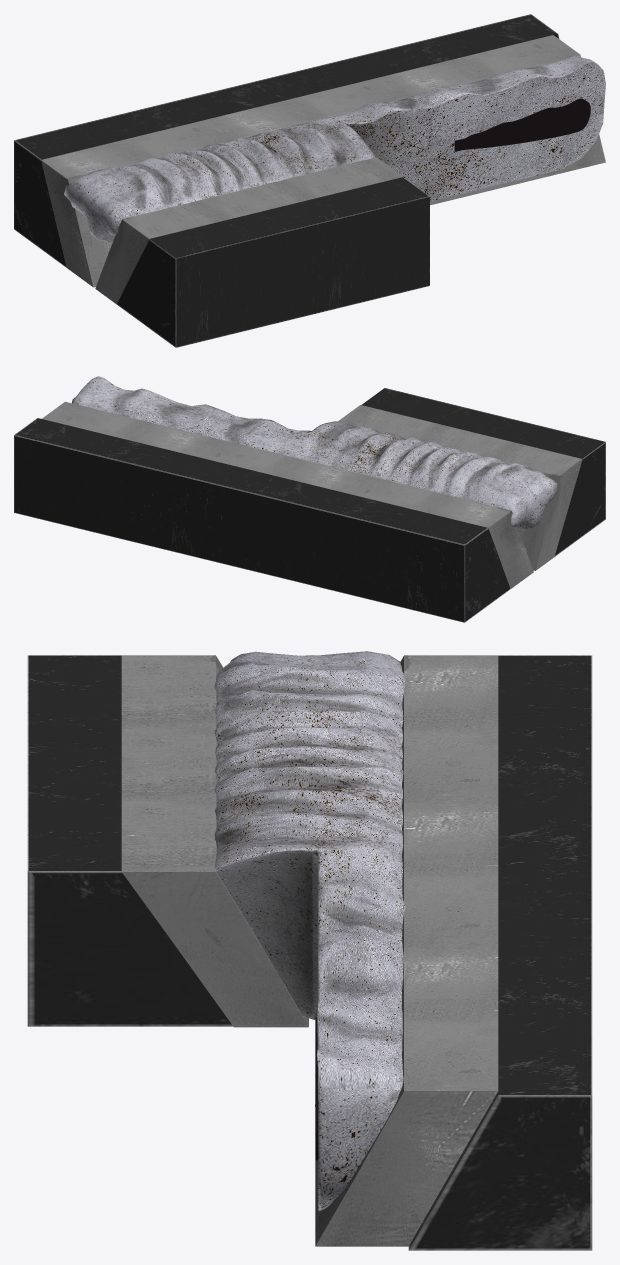
Rendered from brius_33.glb.
3 renders of one model, top to bottom at view 1: azimuth 30°, elevation 25°; view 2: azimuth 150°, elevation 25°; view 3: azimuth 270°, elevation 25°, orthographic. The views are drawn at different scales.
Parts seen in each view (by area): view 1: Цилиндр.004, Куб, Куб.002, Куб.004, Куб.003, Цилиндр.008; view 2: Куб.004, Цилиндр.004, Куб.002, Куб, Куб.003; view 3: Цилиндр.004, Куб.004, Куб.002, Куб, Куб.003.
Part boxes in pixels (<box>): Цилиндр.004: <box>64,55,605,242</box>; Куб: <box>116,177,429,347</box>; Куб.002: <box>41,35,605,287</box>; Куб.004: <box>14,14,559,267</box>; Куб.003: <box>95,157,403,303</box>; Цилиндр.008: <box>454,98,590,151</box>; Куб.004: <box>14,418,510,622</box>; Цилиндр.004: <box>72,376,557,530</box>; Куб.002: <box>42,401,533,588</box>; Куб: <box>361,388,605,556</box>; Куб.003: <box>338,405,582,570</box>; Цилиндр.004: <box>214,651,405,1210</box>; Куб.004: <box>408,655,592,1250</box>; Куб.002: <box>315,655,498,1246</box>; Куб: <box>27,655,232,1026</box>; Куб.003: <box>121,655,308,1027</box>.
Size of the model in its own units: 362 by 70.26 by 195.
Materials: 6 (6 with a texture image).
